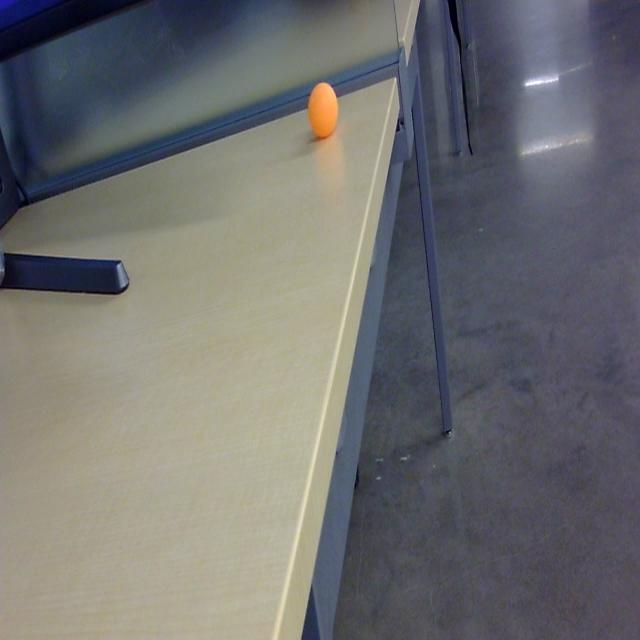ball: (306, 80, 338, 140)
